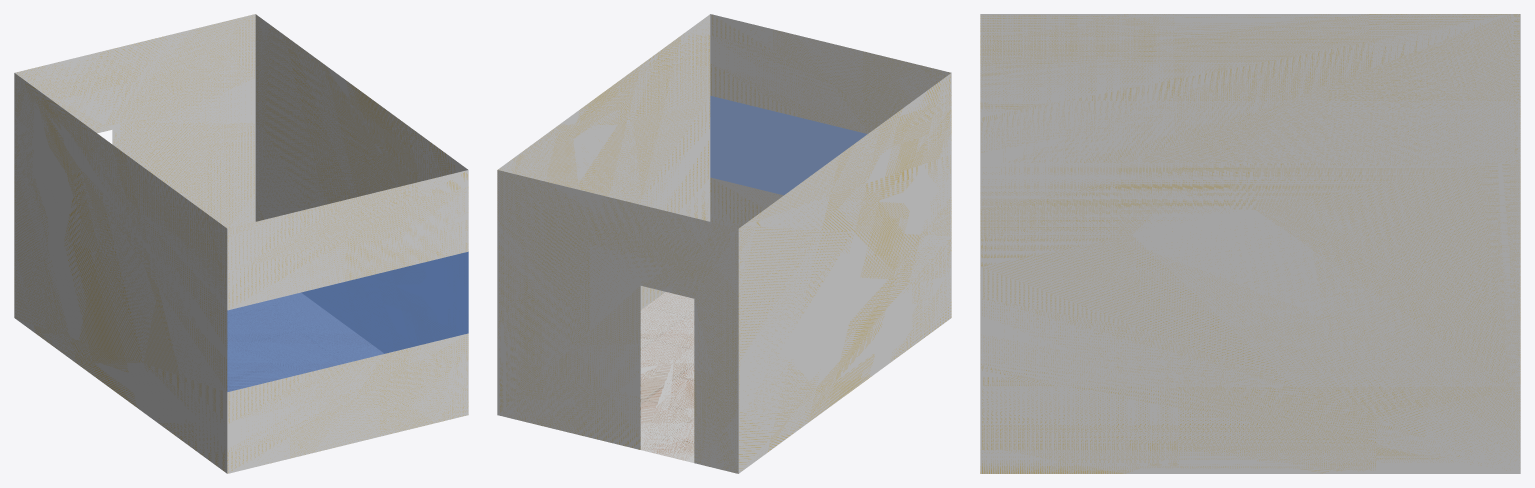
Rendered from LAB006.obj.
3 views of the same model, side by side, from view 1: azimuth 30°, elevation 25°; view 2: azimuth 150°, elevation 25°; view 3: azimuth 270°, elevation 25° (orthographic). The views are drawn at different scales.
Visible parts, largest first — view 1: Mesh1 LAB006 Model; view 2: Mesh1 LAB006 Model; view 3: Mesh1 LAB006 Model.
Boxes of the visible parts, x1=… form: Mesh1 LAB006 Model: x1=14, y1=14, x2=468, y2=473; Mesh1 LAB006 Model: x1=497, y1=14, x2=951, y2=473; Mesh1 LAB006 Model: x1=980, y1=14, x2=1520, y2=473.
Size of the model in its own units: 3.08 by 2.99 by 4.72.
5 materials, 1 textured.
